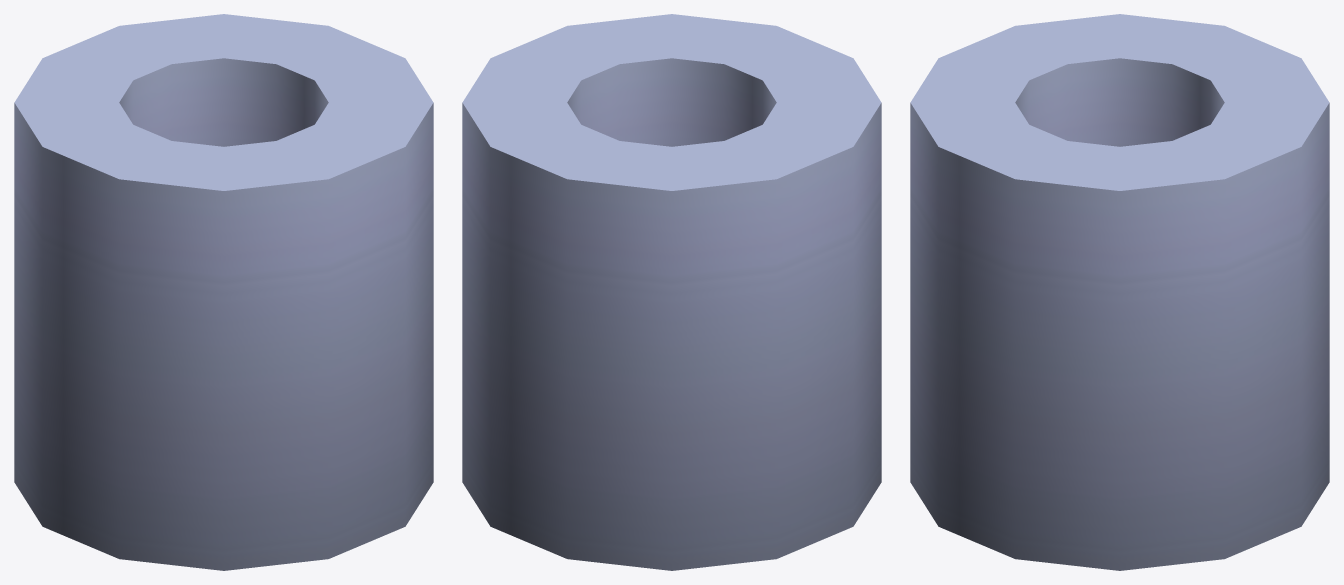
Rendered from kenney-prototype-shape-hollow-cylinder.glb.
3 renders of one model, left to right at view 1: azimuth 30°, elevation 25°; view 2: azimuth 150°, elevation 25°; view 3: azimuth 270°, elevation 25°, orthographic.
Parts seen in each view (by area): view 1: shape-hollow-cylinder; view 2: shape-hollow-cylinder; view 3: shape-hollow-cylinder.
Boxes of the visible parts, x1,y1,x2,y2 form: shape-hollow-cylinder: (14, 14, 433, 570); shape-hollow-cylinder: (462, 14, 881, 570); shape-hollow-cylinder: (910, 14, 1329, 570).
Size of the model in its own units: 1 by 1 by 1.
Materials: 1 (1 with a texture image).
